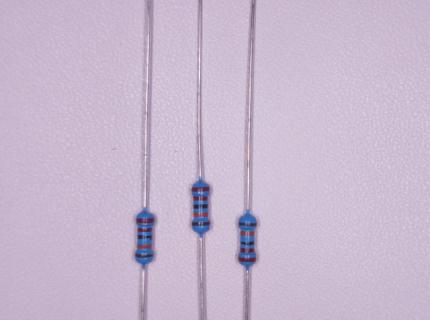Black band: (138, 235, 152, 240), (194, 204, 208, 208), (241, 242, 255, 245)
Brown band: (240, 222, 257, 227), (192, 222, 210, 226), (136, 254, 152, 258)
Orange band: (194, 212, 209, 217), (241, 231, 254, 236), (137, 244, 151, 248)
Red band: (136, 218, 154, 223), (192, 187, 210, 192), (239, 257, 256, 262), (138, 228, 152, 232), (194, 196, 208, 200), (241, 248, 255, 252)
